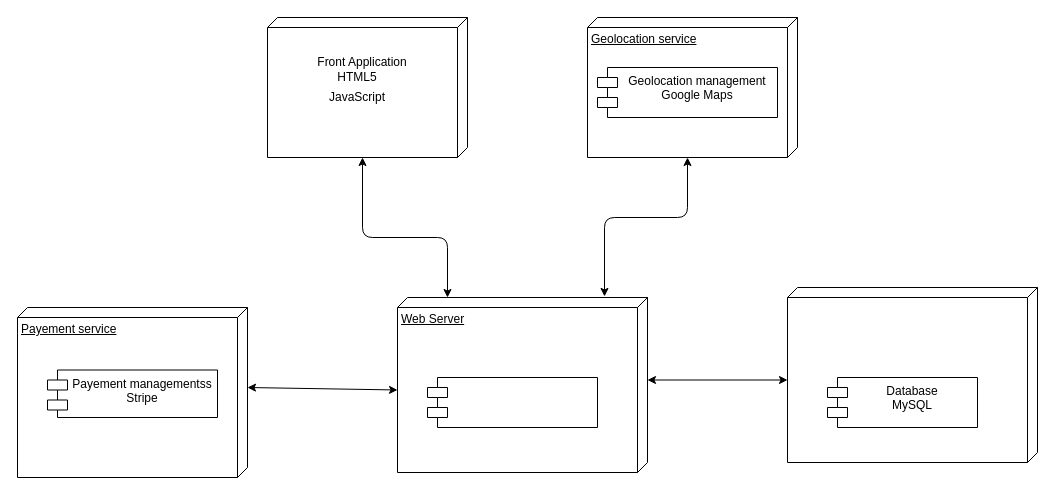
This 1055x495 diagram has some shape labels left out. The shapes that lost their labels are listed below. From the top down, each one's box as (x1, y1, x2, y2) in pixels, then its label:
(266, 16, 468, 158): Web Application
(786, 286, 1038, 462): Database server
(426, 376, 598, 428): Back-end Application Python Django
